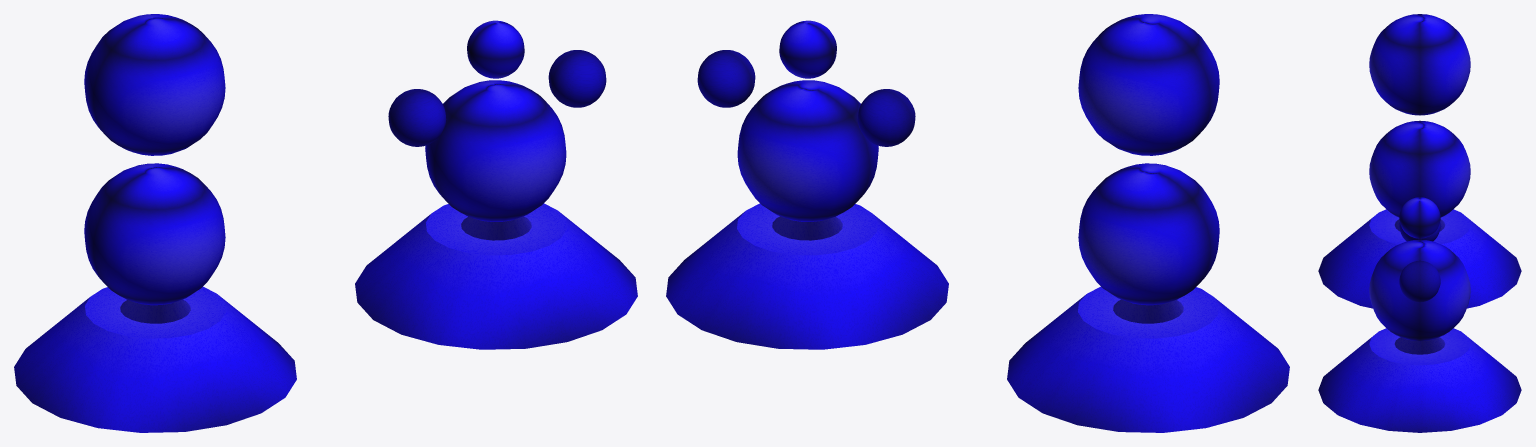
The model's file is SM_Blue_Assests.fbx.
3 views of the same model, side by side, from view 1: azimuth 30°, elevation 25°; view 2: azimuth 150°, elevation 25°; view 3: azimuth 270°, elevation 25° (orthographic). The views are drawn at different scales.
Visible parts, largest first — view 1: pSphere5, pPipe2; view 2: pSphere5, pPipe2; view 3: pPipe2, pSphere5.
Boxes of the visible parts, box(x1,y1,x2,y2) form: pSphere5: box(14, 14, 296, 432); pPipe2: box(355, 20, 637, 349); pSphere5: box(1007, 14, 1289, 432); pPipe2: box(666, 20, 948, 349); pPipe2: box(1318, 197, 1521, 432); pSphere5: box(1318, 14, 1521, 308).
Bounding box in the file's own units: 9.54 × 5.48 × 4.
Materials: 1 (1 with a texture image).
